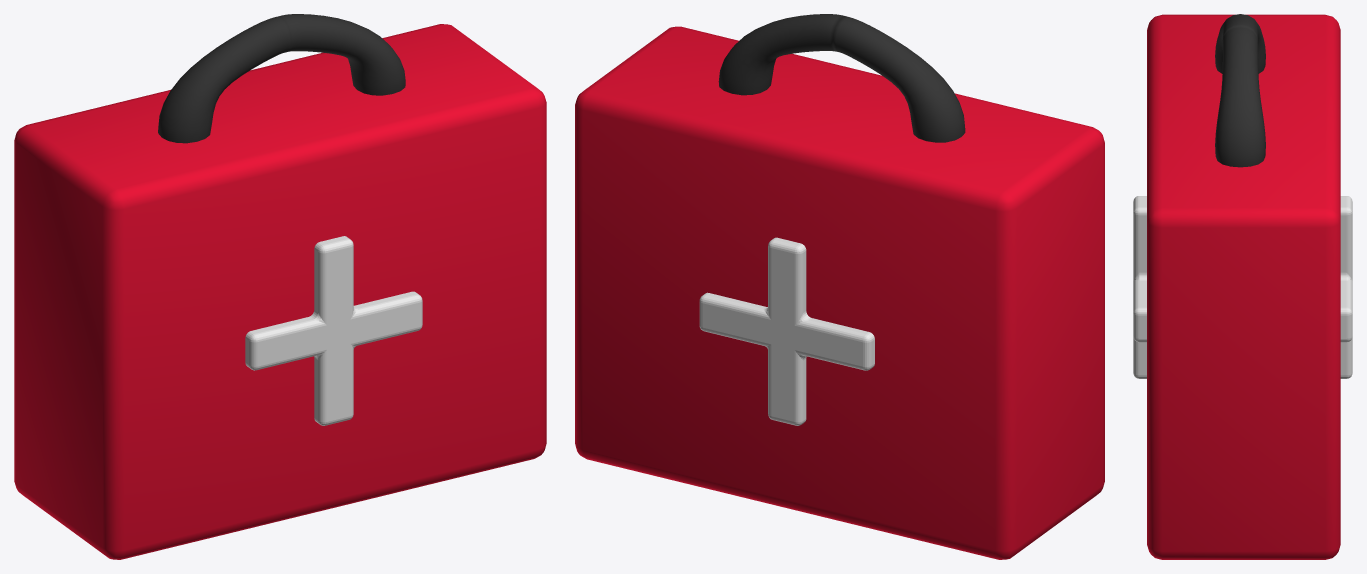
Rendered from MedKit.fbx.
3 renders of one model, left to right at view 1: azimuth 30°, elevation 25°; view 2: azimuth 150°, elevation 25°; view 3: azimuth 270°, elevation 25°, orthographic. The views are drawn at different scales.
Parts seen in each view (by area): view 1: Box, Plane, Handle; view 2: Box, Plane, Handle; view 3: Box, Handle, Plane.
Part boxes in pixels (x1,y1,x2,y2): Box: [14, 24, 546, 559]; Plane: [245, 236, 422, 425]; Handle: [158, 14, 405, 143]; Box: [575, 26, 1104, 559]; Plane: [699, 237, 874, 425]; Handle: [718, 14, 965, 142]; Box: [1147, 14, 1340, 559]; Handle: [1215, 14, 1265, 167]; Plane: [1133, 196, 1352, 378].
Size of the model in its own units: 32 by 31.86 by 14.5.
